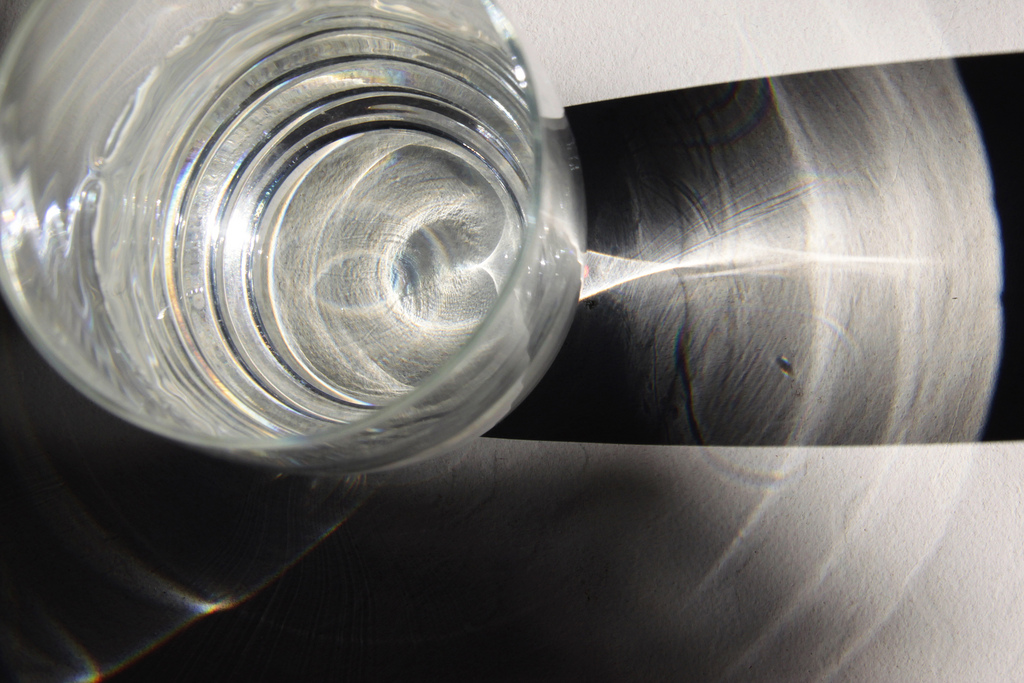glass of water: (1, 5, 599, 472)
